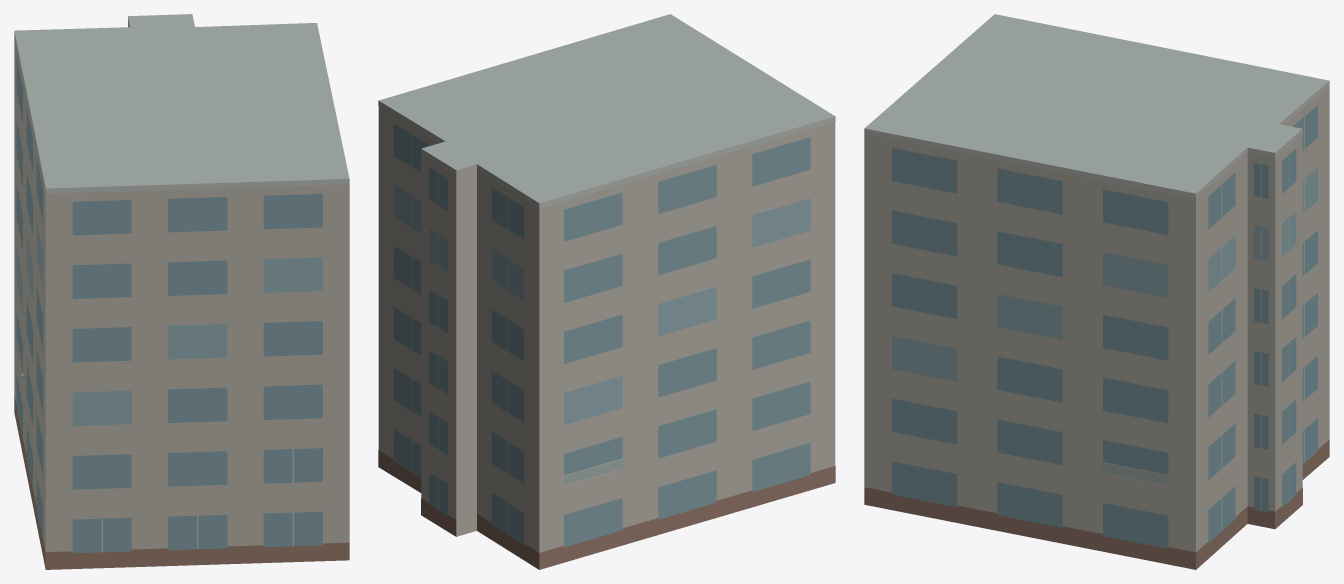
Rendered from survey-upis-33028057.glb.
The picture shows the model from 3 angles, left to right: view 1: azimuth 30°, elevation 25°; view 2: azimuth 150°, elevation 25°; view 3: azimuth 270°, elevation 25°; orthographic projection. The views are drawn at different scales.
Visible parts, largest first — view 1: survey-upis-33028057.tmp; view 2: survey-upis-33028057.tmp; view 3: survey-upis-33028057.tmp.
Part boxes in pixels (x1=…): survey-upis-33028057.tmp: x1=14, y1=14, x2=349, y2=569; survey-upis-33028057.tmp: x1=378, y1=14, x2=835, y2=569; survey-upis-33028057.tmp: x1=864, y1=14, x2=1329, y2=569.
Size of the model in its own units: 17.42 by 17 by 19.07.
